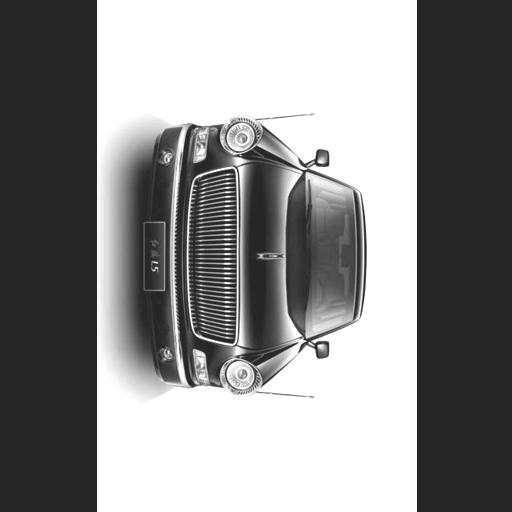sedan: (144, 115, 365, 393)
